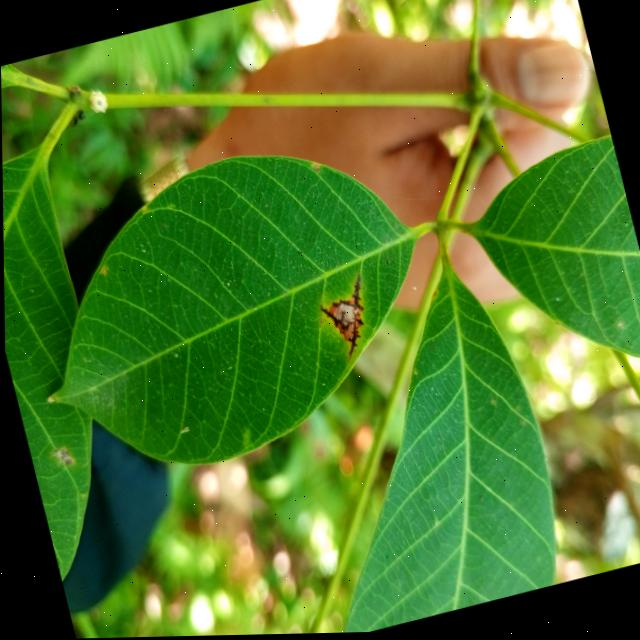Corynespora: (312, 274, 378, 367), (330, 302, 354, 329)
